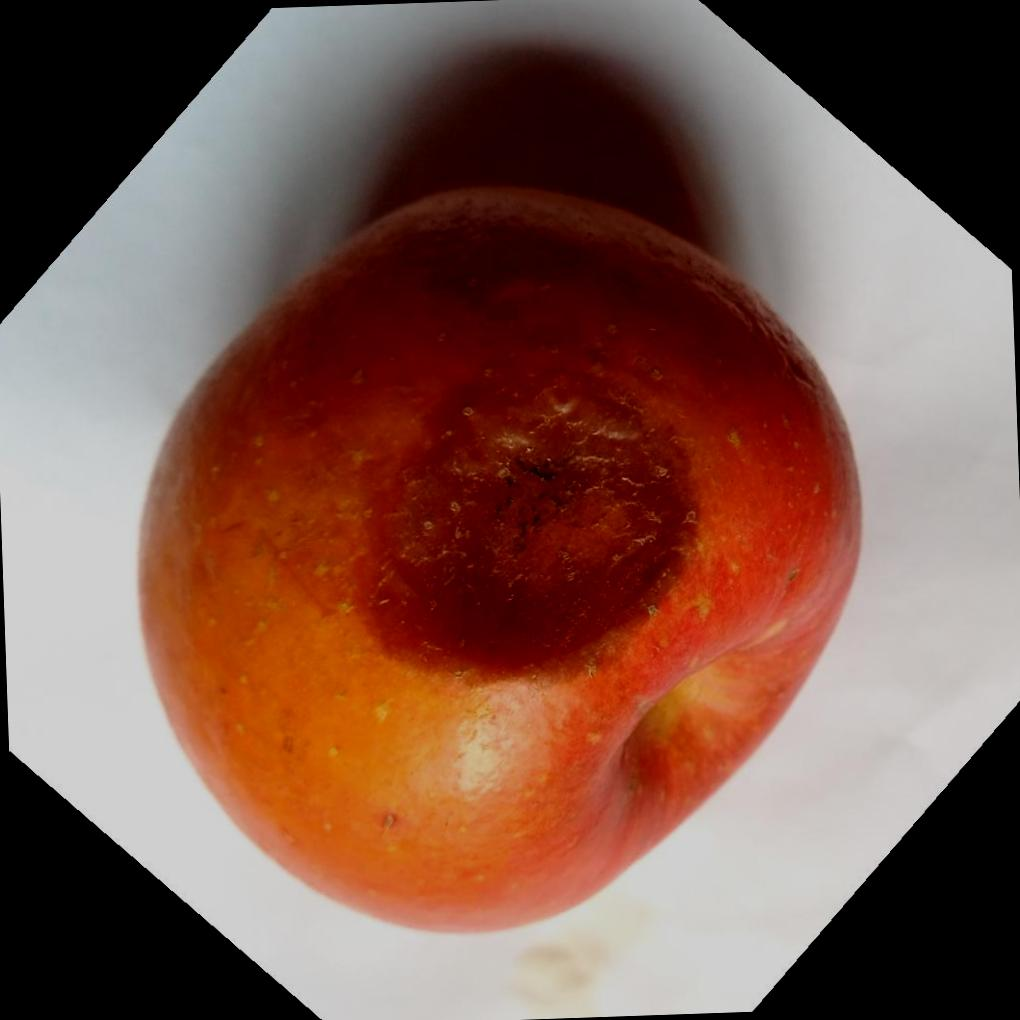FreshOrange: (130, 181, 860, 937)
